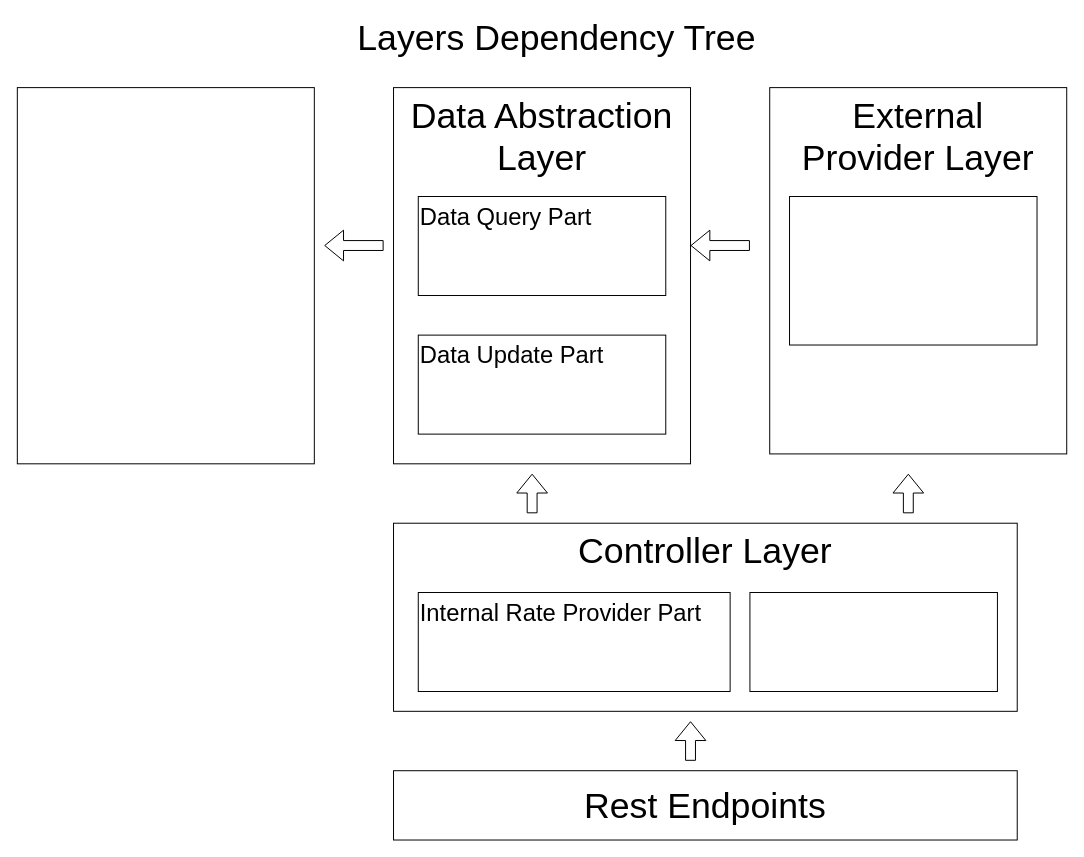
Image size: 1084x857. Some labels were removed from this diagram. Here are the shapes that lost their labels. From the top down, the centre of each, then its label:
At point (165, 275): "Cache Layer".
At point (913, 270): "External Data Provider Part".
At point (873, 642): "Rate Updater Task".
